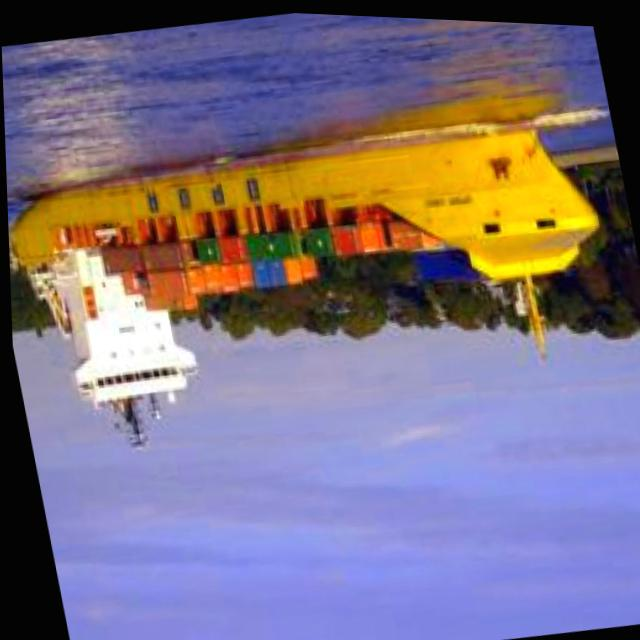ship2: (9, 113, 601, 449)
